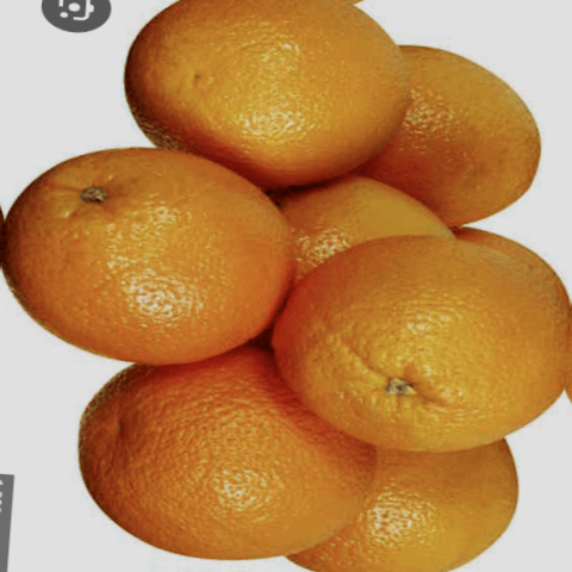orange: (64, 322, 399, 572), (0, 122, 305, 375), (279, 218, 572, 478), (122, 0, 436, 187)
